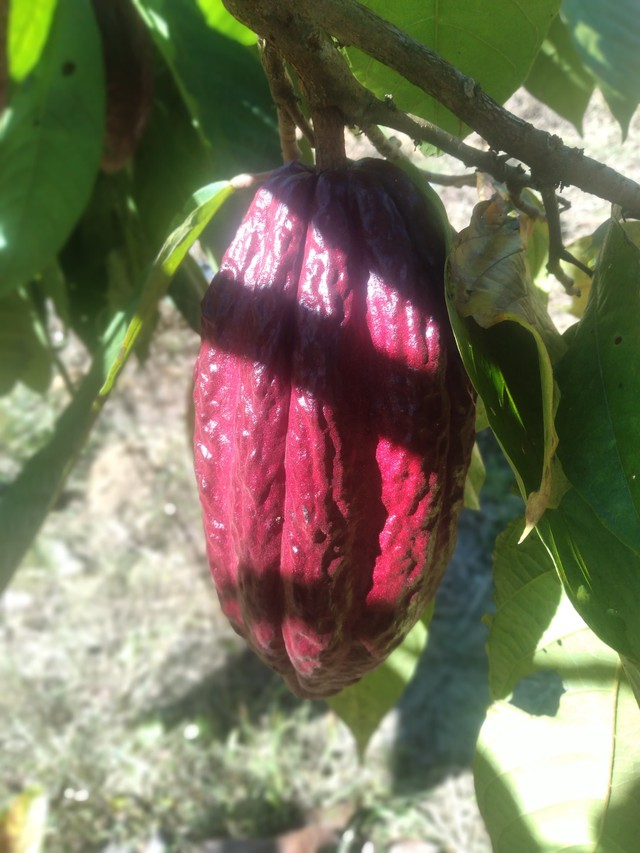Health: (182, 141, 491, 705)
